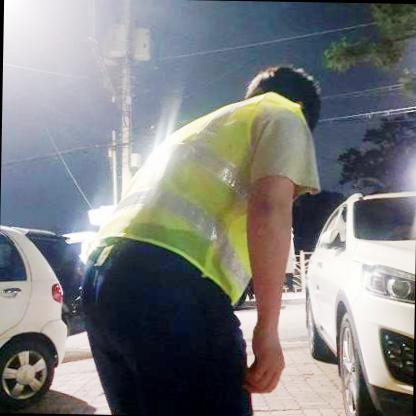no-helmet: (257, 57, 323, 120)
vest: (87, 82, 322, 310)
